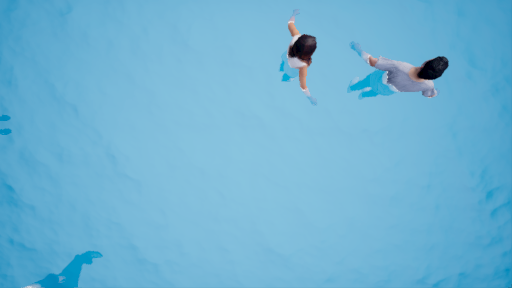person: (347, 44, 454, 110), (275, 6, 321, 105)
